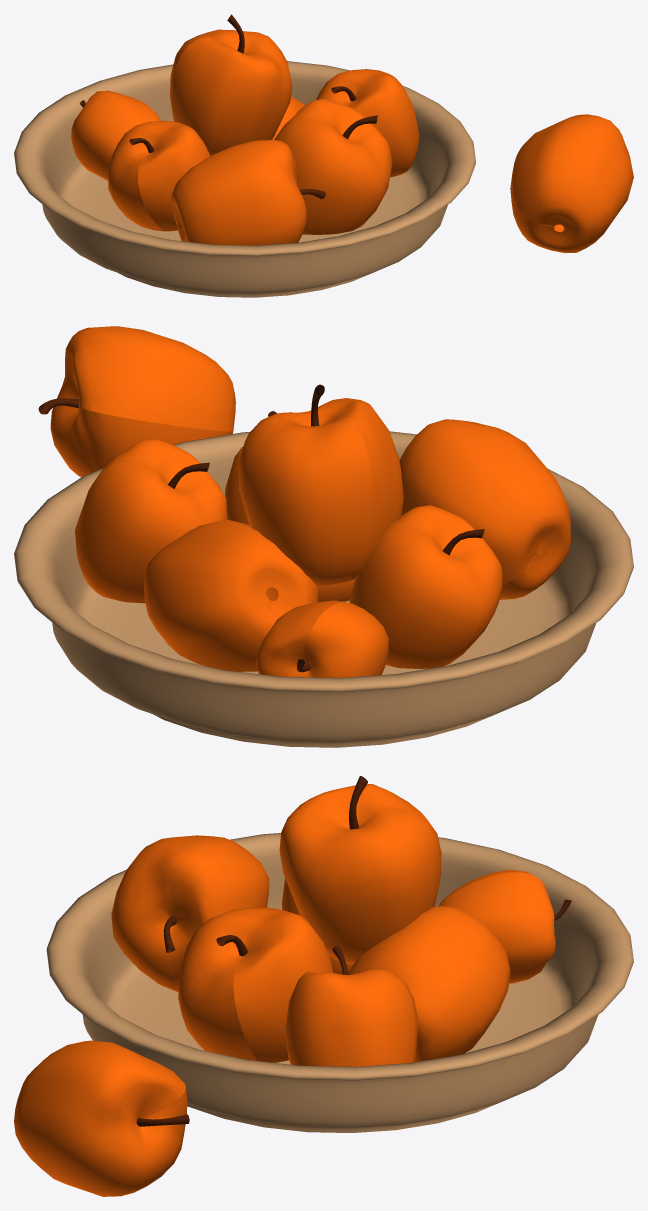
The model's file is Apples.obj.
3 renders of one model, top to bottom at view 1: azimuth 30°, elevation 25°; view 2: azimuth 150°, elevation 25°; view 3: azimuth 270°, elevation 25°, orthographic. The views are drawn at different scales.
Size of the model in its own units: 801 by 334 by 693.
